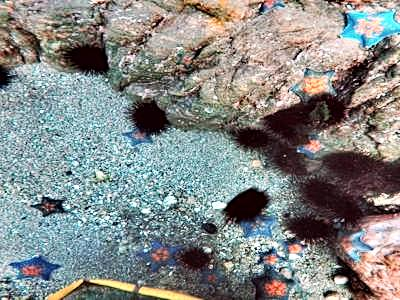urchin: (322, 151, 394, 194), (298, 178, 365, 222), (221, 186, 268, 222), (266, 105, 309, 140), (270, 148, 312, 182), (284, 213, 338, 239), (66, 42, 111, 73), (127, 99, 168, 132), (304, 94, 343, 124), (233, 124, 265, 147), (180, 244, 211, 266), (2, 65, 13, 90)
